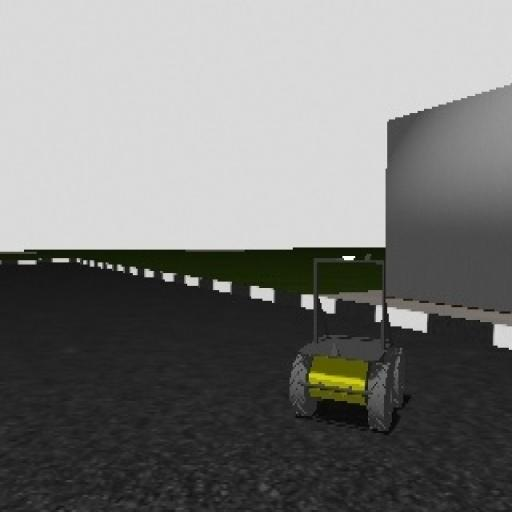huskya200: (291, 251, 411, 434)
